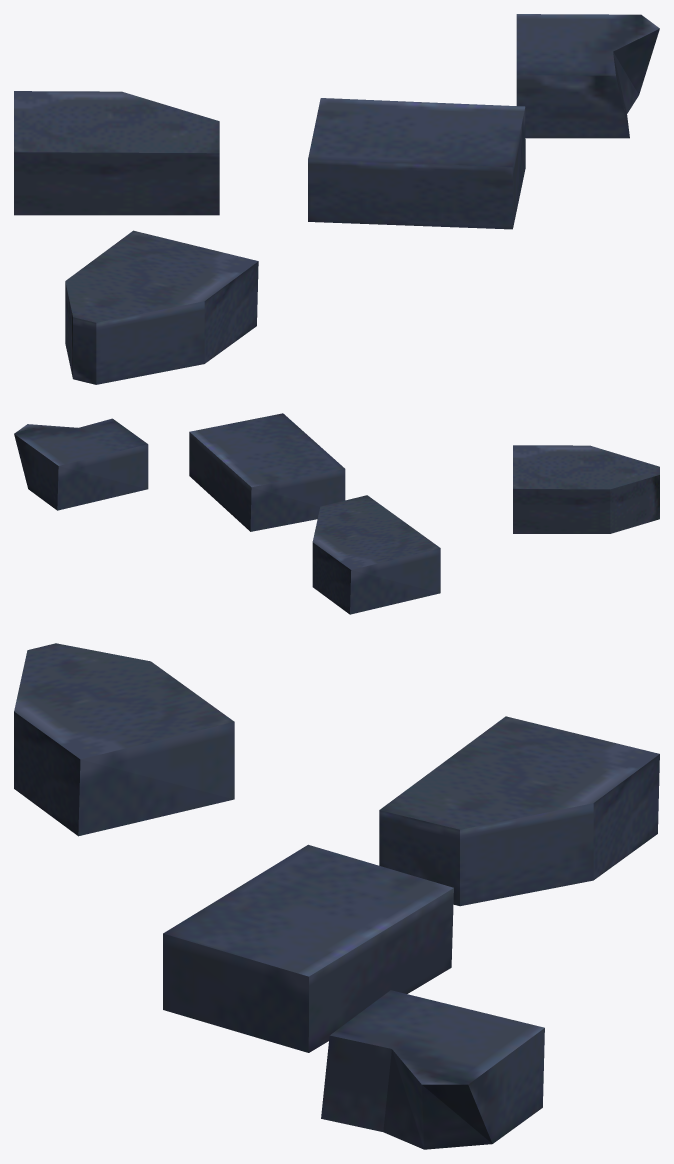
The model's file is Ice_stoneBK.FBX.
The picture shows the model from 3 angles, top to bottom: view 1: azimuth 30°, elevation 25°; view 2: azimuth 150°, elevation 25°; view 3: azimuth 270°, elevation 25°; orthographic projection. The views are drawn at different scales.
Visible parts, largest first — view 1: Object15669; view 2: Object15669; view 3: Object15669.
Boxes of the visible parts, box(x1,y1,x2,y2) form: Object15669: box(14, 14, 659, 384); Object15669: box(14, 413, 659, 614); Object15669: box(14, 643, 659, 1149).
Bounding box in the file's own units: 130 × 10.73 × 80.1.
